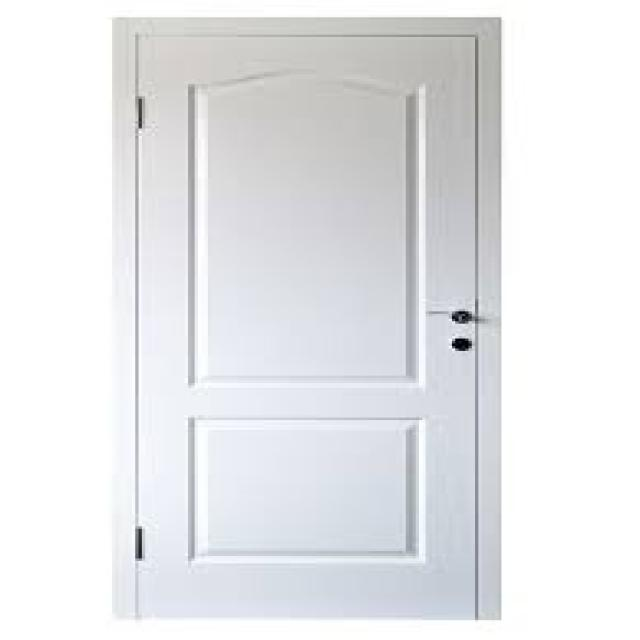door: (117, 18, 500, 620)
